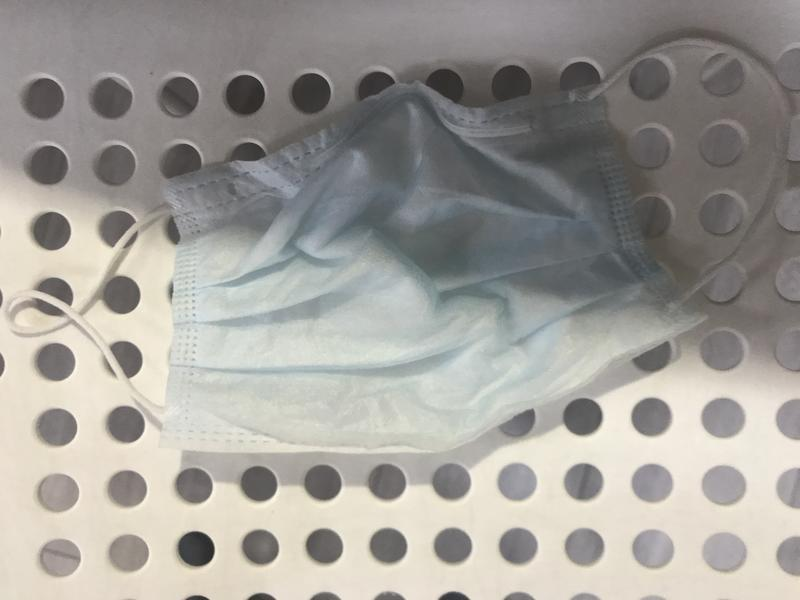medical_mask: (3, 37, 791, 449)
